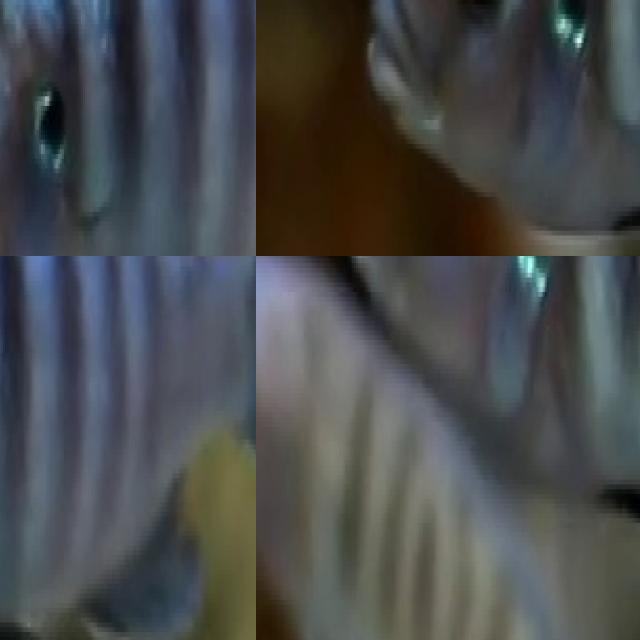fish: (256, 282, 640, 640), (0, 256, 256, 640), (0, 0, 256, 256)
